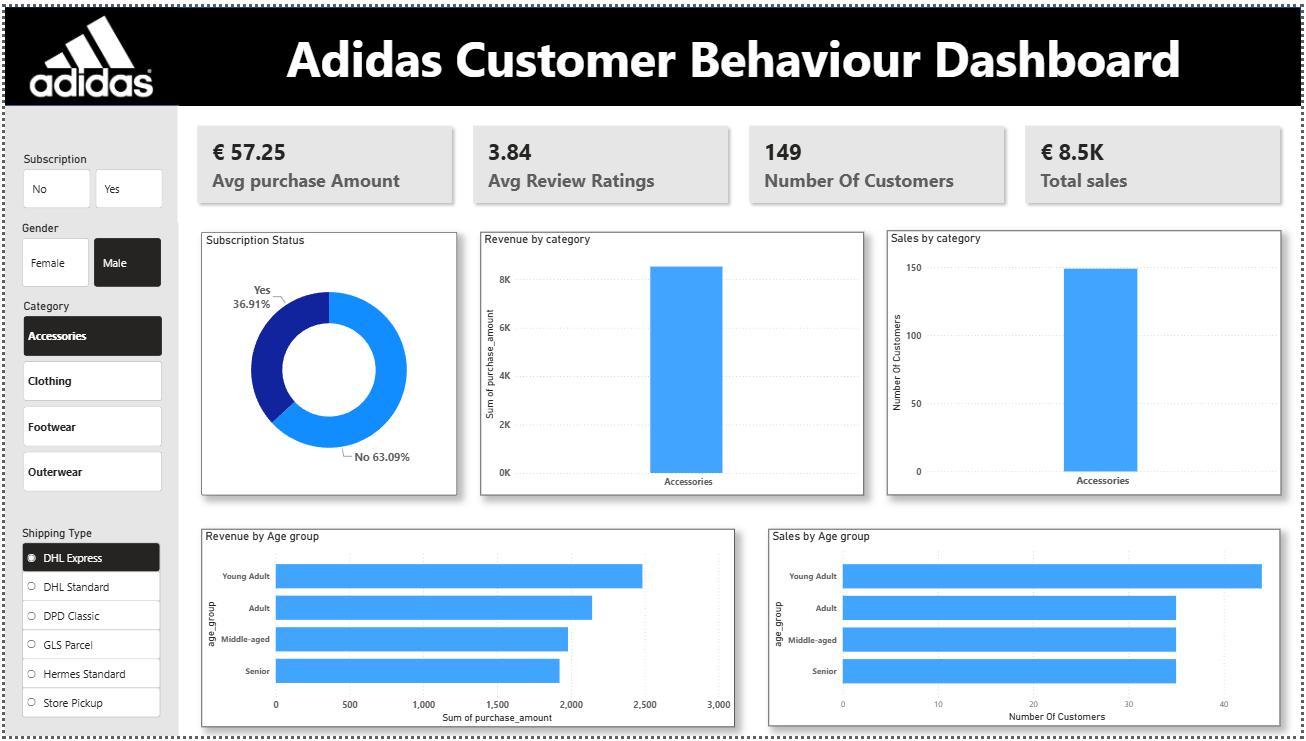

The dashboard page shown, as its layout file describes it:
{"tool":"powerbi","page":{"name":"Page 1","canvas":[1920,1080],"ordinal":0},"visuals":[{"type":"shape","box":[0,145.7,257.1,934.3],"z":0},{"type":"cardVisual","fields":{"Data":["_measures.Avg purchase Amount","_measures.Avg Review Ratings","_measures.Number Of Customers","_measures.Total sales"]},"box":[256,146,1664,172],"z":1000},{"type":"donutChart","title":"Subscription Status","fields":{"Category":["customer.subscription_status"],"Y":["_measures.Number Of Customers"]},"box":[290,333.3,378.3,390],"z":2000},{"type":"clusteredColumnChart","title":"Revenue by category","fields":{"Category":["customer.category"],"Y":["Sum(customer.purchase_amount)"]},"box":[704,334,568,390],"z":3000},{"type":"clusteredColumnChart","title":"Sales by category","fields":{"Category":["customer.category"],"Y":["_measures.Number Of Customers"]},"box":[1306,332,584,392],"z":4000},{"type":"barChart","title":"Revenue by Age group","fields":{"Category":["customer.age_group"],"Y":["Sum(customer.purchase_amount)"]},"box":[290,773.3,790,293.3],"z":5000},{"type":"barChart","title":"Sales by Age group","fields":{"Category":["customer.age_group"],"Y":["_measures.Number Of Customers"]},"box":[1132,774,758,292],"z":6000},{"type":"shape","box":[0,0,1920,146],"z":7000},{"type":"image","box":[0,0,256.2,146.2],"z":8000},{"type":"textbox","box":[256.7,20,1663.3,126.7],"z":9000},{"type":"advancedSlicerVisual","title":"Subscription","fields":{"Values":["customer.subscription_status"]},"box":[21.7,215,216.7,88.3],"z":10000},{"type":"advancedSlicerVisual","title":"Category","fields":{"Values":["customer.category"]},"box":[22,433,215,290],"z":11000},{"type":"advancedSlicerVisual","title":"Shipping Type","fields":{"Values":["customer.shipping_type"]},"box":[20,768.3,215,293.3],"z":12000},{"type":"advancedSlicerVisual","title":"Gender","fields":{"Values":["customer.gender"]},"box":[20,318.3,216.7,101.7],"z":13000}]}

Visuals, with their boxes in screenshot pixels (x1, y1, x2, y2), scaled from the page's 1920x1080 canvas onto the 1306x741 screenshot:
shape: x1=0 y1=100 x2=175 y2=740
cardVisual - _measures.Avg purchase Amount x _measures.Avg Review Ratings: x1=174 y1=100 x2=1305 y2=218
"Subscription Status" donutChart: x1=197 y1=229 x2=455 y2=496
"Revenue by category" clusteredColumnChart: x1=479 y1=229 x2=865 y2=497
"Sales by category" clusteredColumnChart: x1=888 y1=228 x2=1286 y2=497
"Revenue by Age group" barChart: x1=197 y1=531 x2=735 y2=732
"Sales by Age group" barChart: x1=770 y1=531 x2=1286 y2=731
shape: x1=0 y1=0 x2=1305 y2=100
image: x1=0 y1=0 x2=174 y2=100
textbox: x1=175 y1=14 x2=1305 y2=101
"Subscription" advancedSlicerVisual: x1=15 y1=148 x2=162 y2=208
"Category" advancedSlicerVisual: x1=15 y1=297 x2=161 y2=496
"Shipping Type" advancedSlicerVisual: x1=14 y1=527 x2=160 y2=728
"Gender" advancedSlicerVisual: x1=14 y1=218 x2=161 y2=288
